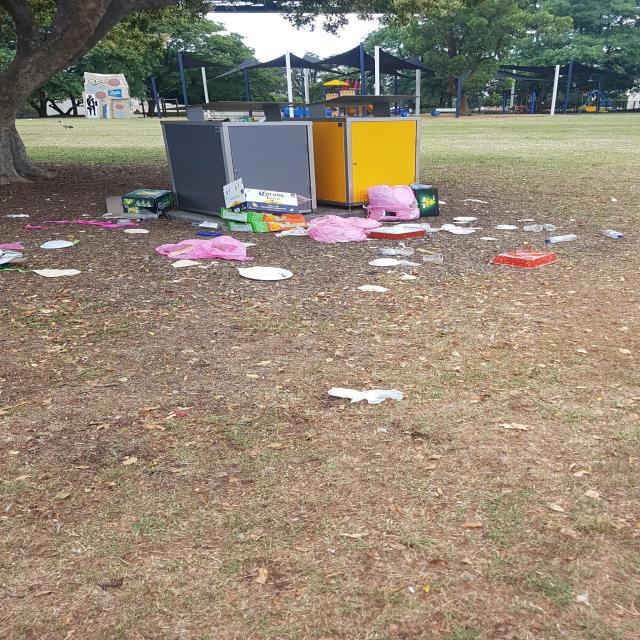litter: (220, 178, 308, 233), (156, 236, 255, 261), (306, 215, 382, 243), (106, 189, 176, 216), (367, 185, 419, 221), (490, 249, 560, 269), (328, 387, 403, 404), (411, 187, 440, 217), (366, 226, 429, 239), (239, 267, 293, 280), (44, 220, 139, 227), (101, 209, 159, 219), (33, 269, 81, 277), (376, 247, 414, 256), (439, 224, 484, 231), (191, 220, 222, 230), (545, 234, 578, 243), (41, 240, 73, 249), (369, 258, 402, 266), (172, 260, 203, 268), (357, 285, 390, 292), (0, 241, 25, 250), (1, 250, 23, 259), (423, 253, 444, 262), (603, 230, 623, 239), (282, 230, 309, 236), (523, 224, 543, 232), (494, 224, 519, 230), (230, 116, 255, 122), (7, 257, 30, 263), (421, 223, 433, 234), (449, 229, 475, 234), (203, 261, 218, 269), (453, 216, 477, 221), (0, 257, 12, 267), (408, 183, 428, 189), (137, 214, 154, 221), (26, 225, 54, 229), (461, 199, 488, 203), (124, 229, 150, 233), (394, 223, 420, 227), (544, 224, 557, 231), (117, 219, 132, 225), (288, 228, 306, 233), (198, 233, 222, 236), (243, 242, 257, 247), (7, 214, 29, 217), (480, 237, 496, 240), (275, 233, 286, 237), (432, 228, 442, 232), (398, 242, 405, 247), (440, 201, 446, 204)
